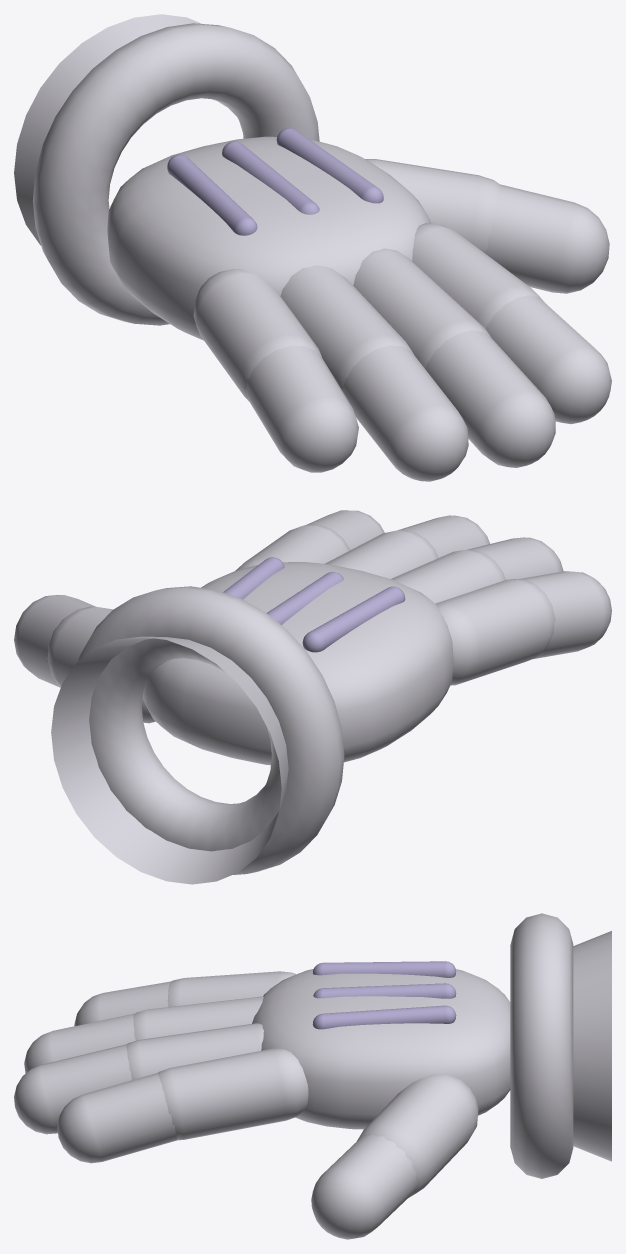
Rendered from Glove_Open.obj.
The picture shows the model from 3 angles, top to bottom: view 1: azimuth 30°, elevation 25°; view 2: azimuth 150°, elevation 25°; view 3: azimuth 270°, elevation 25°; orthographic projection. The views are drawn at different scales.
Visible parts, largest first — view 1: Hand, Cuff, Seam; view 2: Hand, Cuff, Seam; view 3: Hand, Cuff, Seam.
Part boxes in pixels (<box>): Hand: <box>107,136,611,481</box>; Cuff: <box>14,14,319,325</box>; Seam: <box>167,128,383,235</box>; Hand: <box>14,510,611,765</box>; Cuff: <box>51,586,344,884</box>; Seam: <box>223,557,405,652</box>; Hand: <box>14,969,510,1239</box>; Cuff: <box>510,913,611,1178</box>; Seam: <box>312,961,456,1029</box>.
Size of the model in its own units: 0.2561 by 0.152 by 0.3417.
